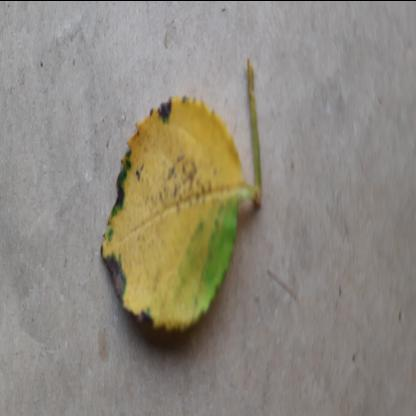black-spot: (101, 84, 249, 340)
